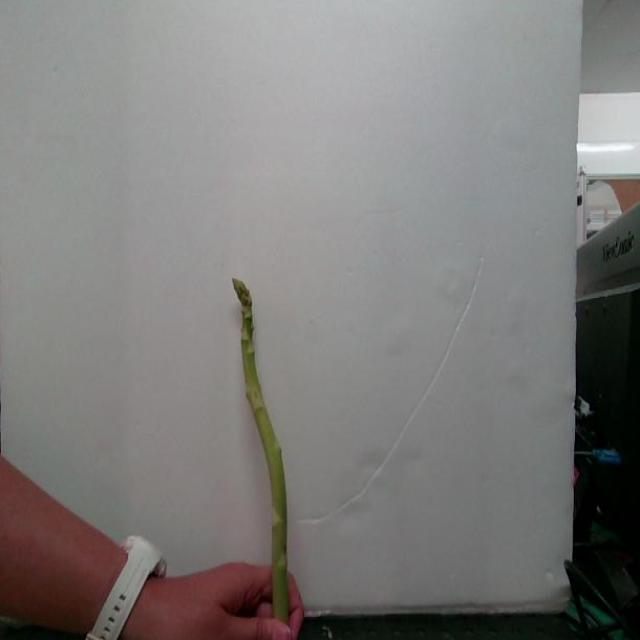aspargus: (234, 281, 291, 624)
